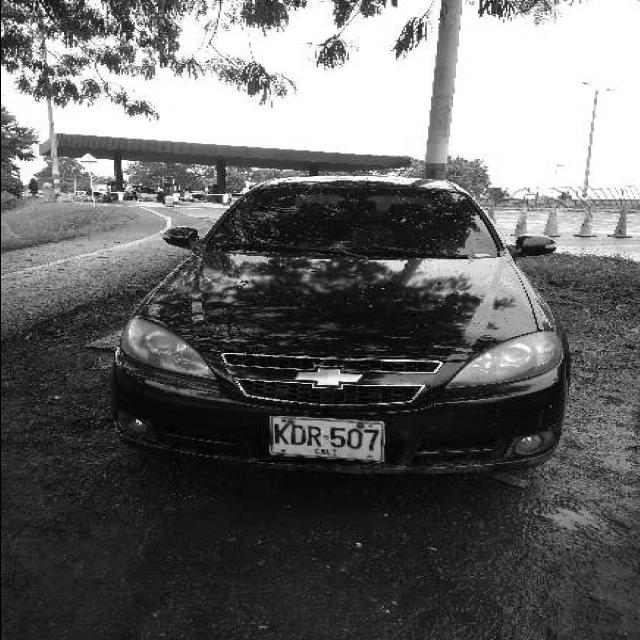plate: (258, 417, 387, 462)
